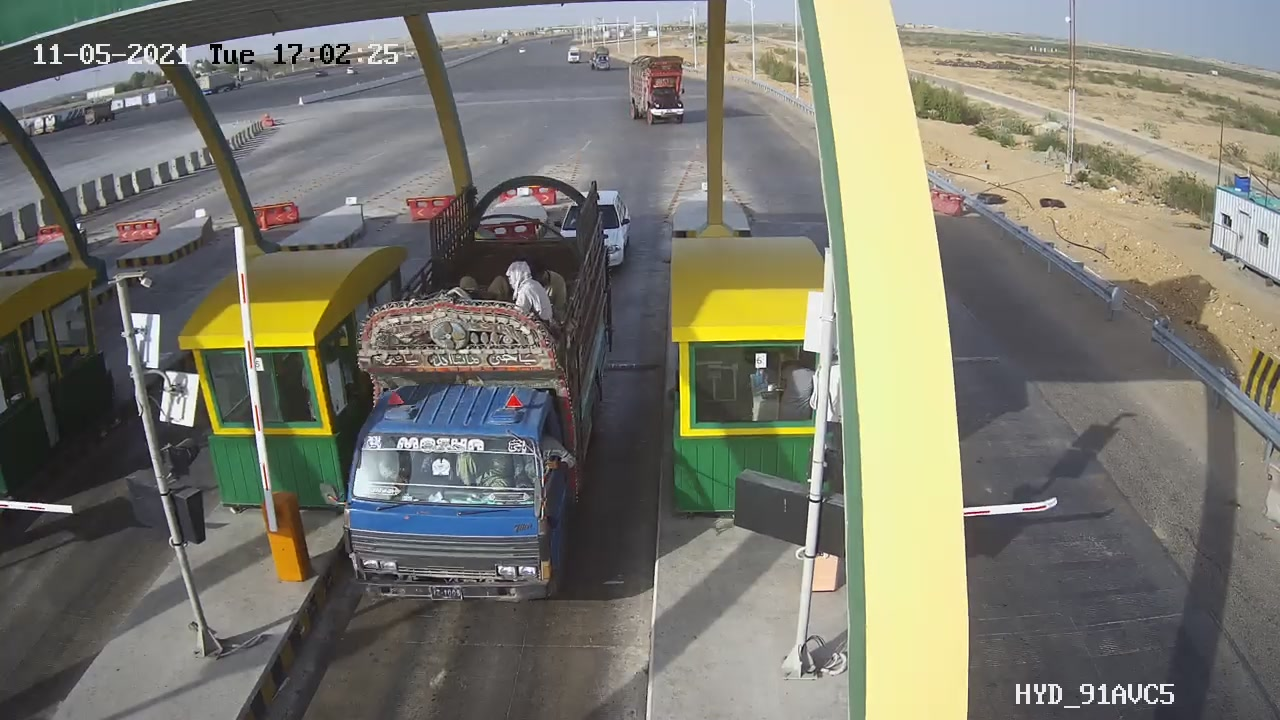F5: (307, 159, 648, 624)
